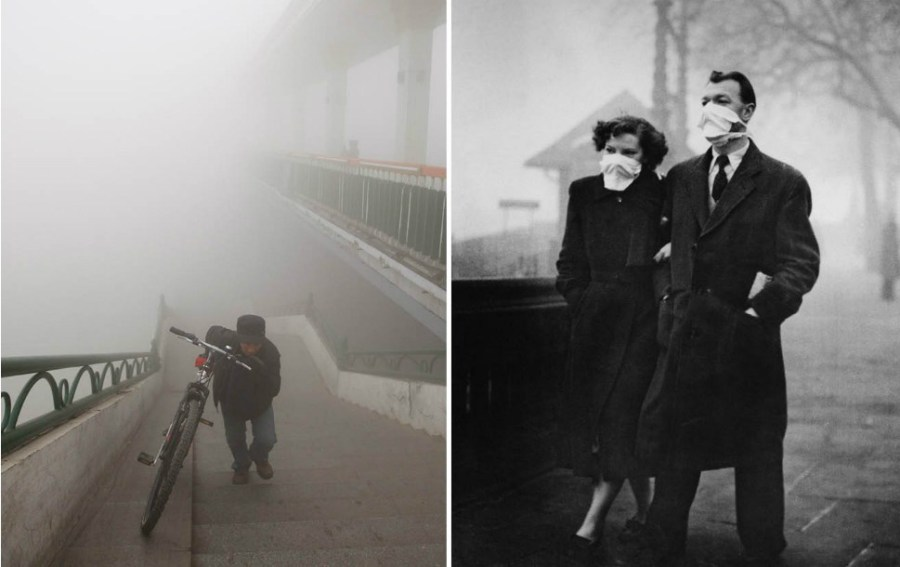face_mask: (700, 82, 742, 142), (602, 135, 645, 179)
